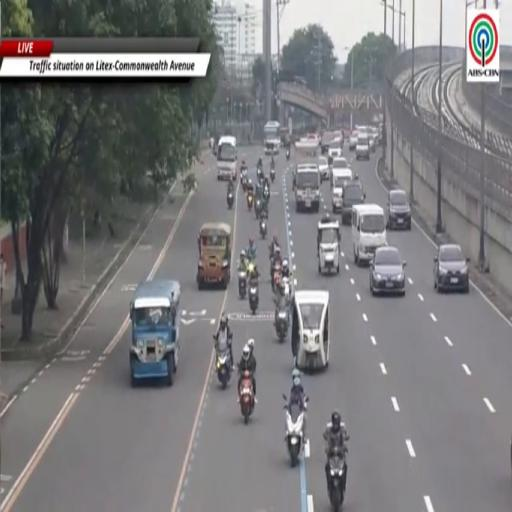car: (370, 246, 406, 295), (434, 245, 470, 293), (387, 188, 411, 230), (356, 133, 369, 159), (321, 132, 334, 154), (319, 156, 329, 181), (349, 131, 358, 150), (328, 147, 342, 157), (368, 133, 375, 152)
jeepney: (130, 280, 180, 387), (197, 222, 231, 290)
motorcycle: (283, 395, 304, 467), (328, 447, 345, 511), (239, 371, 254, 424), (216, 351, 232, 389), (275, 308, 288, 342), (248, 282, 258, 314), (272, 262, 281, 292), (239, 270, 247, 298), (282, 277, 290, 303), (260, 217, 267, 238), (240, 170, 247, 191), (247, 261, 255, 279), (255, 199, 261, 219), (227, 191, 233, 210), (247, 194, 253, 211), (264, 186, 269, 203), (270, 169, 275, 183), (257, 167, 262, 180), (286, 150, 290, 161)
